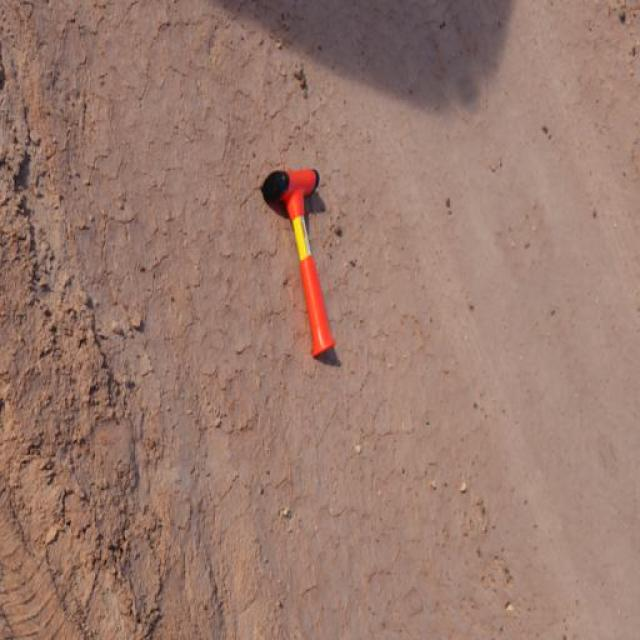mallet: (259, 165, 341, 366)
